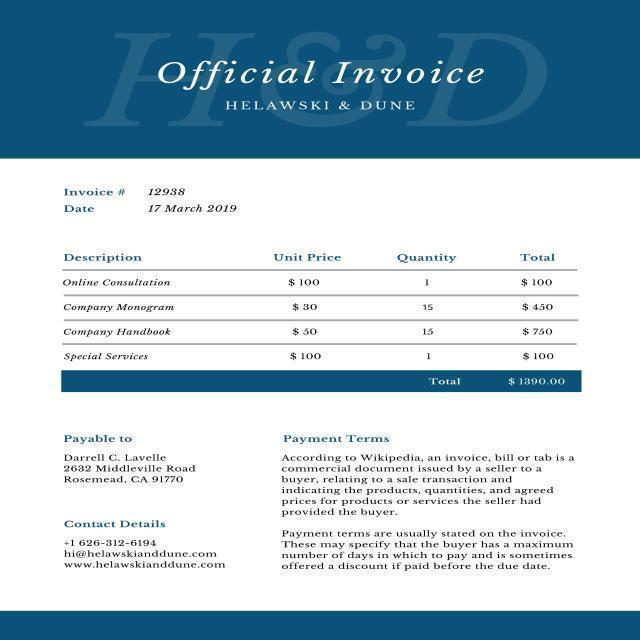paragraph: (264, 422, 605, 579), (52, 516, 238, 585), (154, 54, 496, 88), (57, 176, 256, 229), (54, 431, 210, 498), (219, 94, 433, 124), (418, 374, 584, 396)
table: (47, 244, 596, 365)
